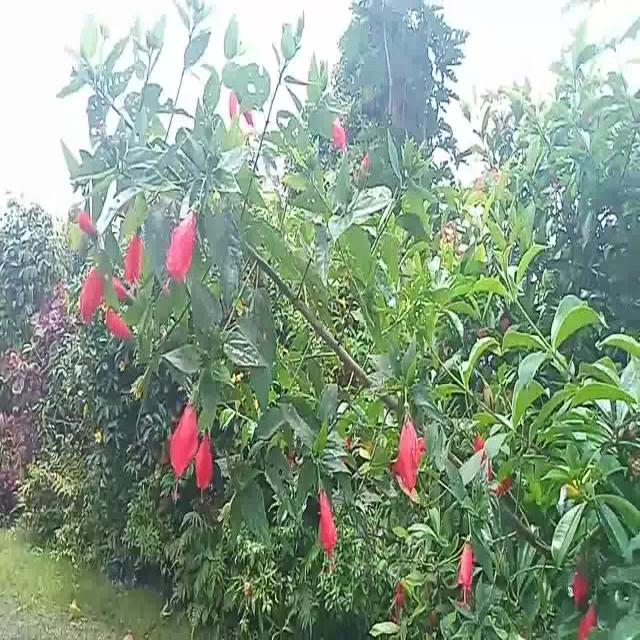Flower: (169, 390, 202, 482), (167, 203, 199, 283), (313, 483, 341, 569), (397, 406, 420, 500), (78, 263, 104, 325), (458, 534, 478, 598), (106, 301, 133, 343), (196, 438, 214, 495), (330, 117, 349, 156), (576, 556, 588, 606)
